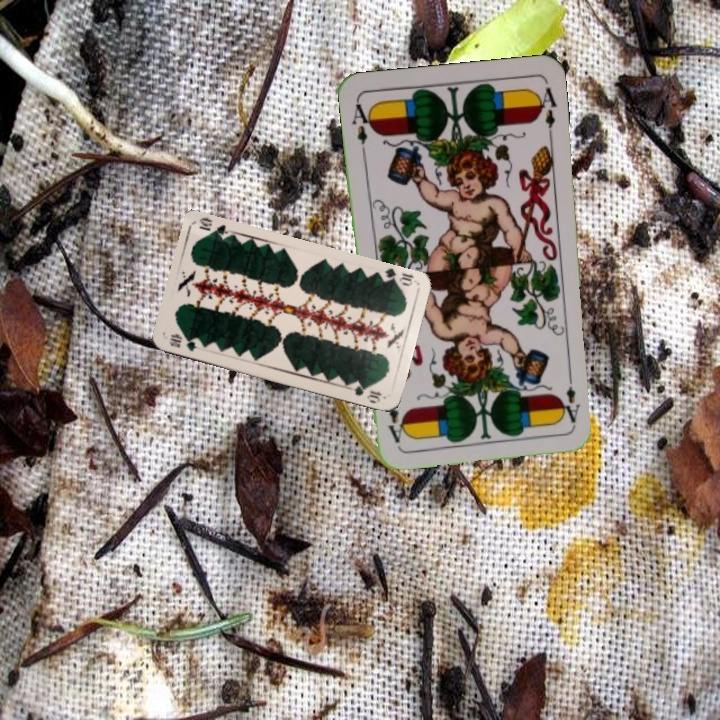EA: (347, 97, 376, 147), (562, 382, 583, 425)
G10: (377, 265, 417, 289), (165, 331, 199, 354)
